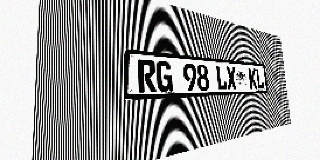8: (196, 64, 210, 91)
9: (183, 63, 197, 91)
G: (156, 61, 173, 92)
K: (248, 68, 257, 89)
L: (216, 65, 227, 90), (256, 69, 264, 89)
R: (138, 59, 156, 93)
X: (226, 66, 237, 90)
